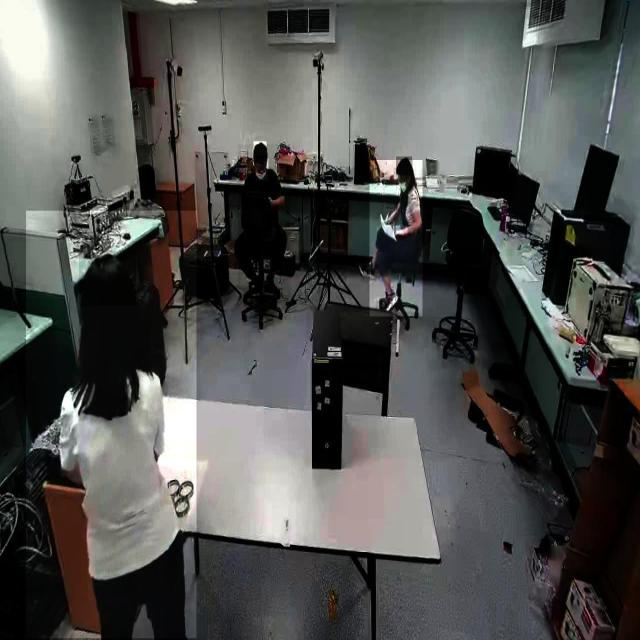face_mask: (256, 158, 268, 182), (397, 175, 409, 196)
glasses: (381, 287, 399, 320), (357, 254, 377, 280), (247, 272, 264, 299), (265, 273, 281, 299)
hand_noglove: (393, 226, 407, 236)
head_nohelmet: (79, 250, 136, 306), (396, 156, 412, 174), (253, 142, 267, 156)
person: (26, 211, 197, 639), (369, 160, 423, 317), (238, 144, 291, 301)
